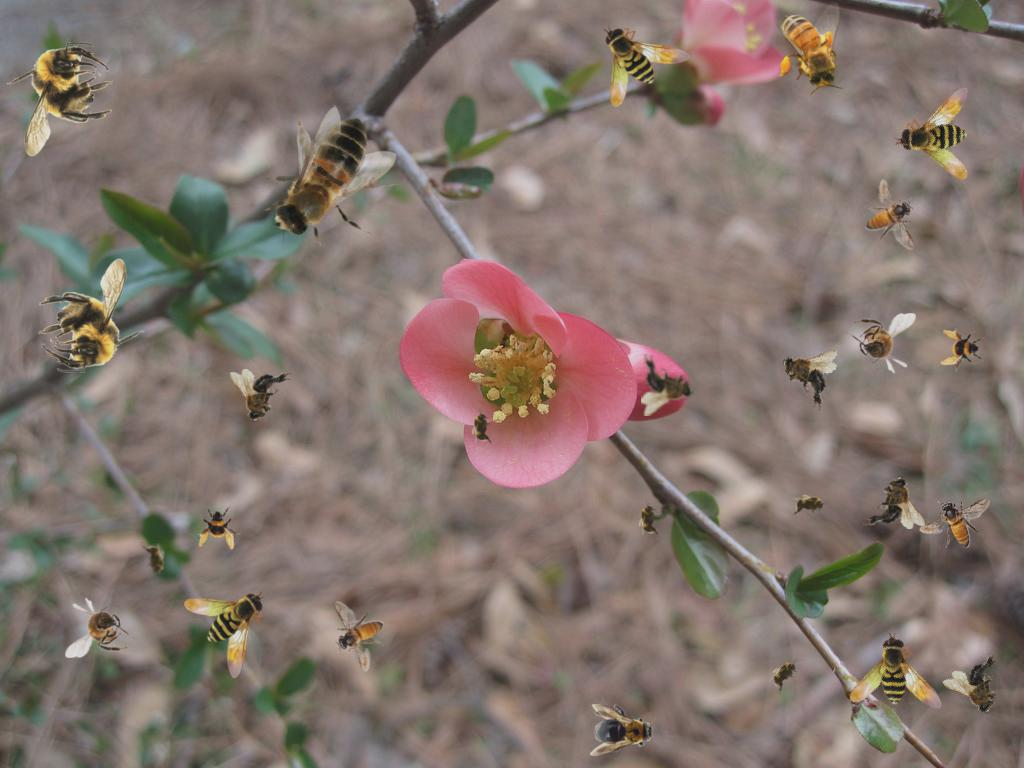Bee: (239, 105, 406, 267), (841, 628, 961, 748), (891, 69, 1009, 189), (6, 42, 113, 157), (38, 258, 145, 373), (184, 591, 266, 679), (603, 25, 691, 107), (776, 2, 844, 95), (940, 648, 1021, 726), (772, 337, 841, 413), (844, 311, 917, 375), (65, 597, 135, 658), (919, 498, 990, 548), (334, 601, 384, 672), (865, 179, 915, 250), (590, 704, 658, 756), (230, 369, 292, 422), (641, 354, 694, 416), (863, 476, 925, 529), (940, 328, 984, 372), (197, 506, 241, 550), (763, 652, 807, 696), (140, 538, 170, 582), (790, 494, 830, 516), (638, 499, 660, 539), (471, 407, 493, 447)
